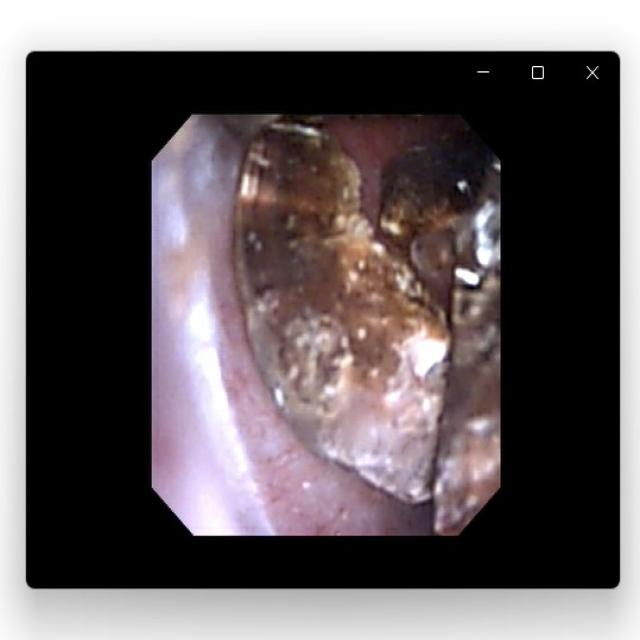stone: (230, 124, 483, 496), (422, 178, 497, 527)
